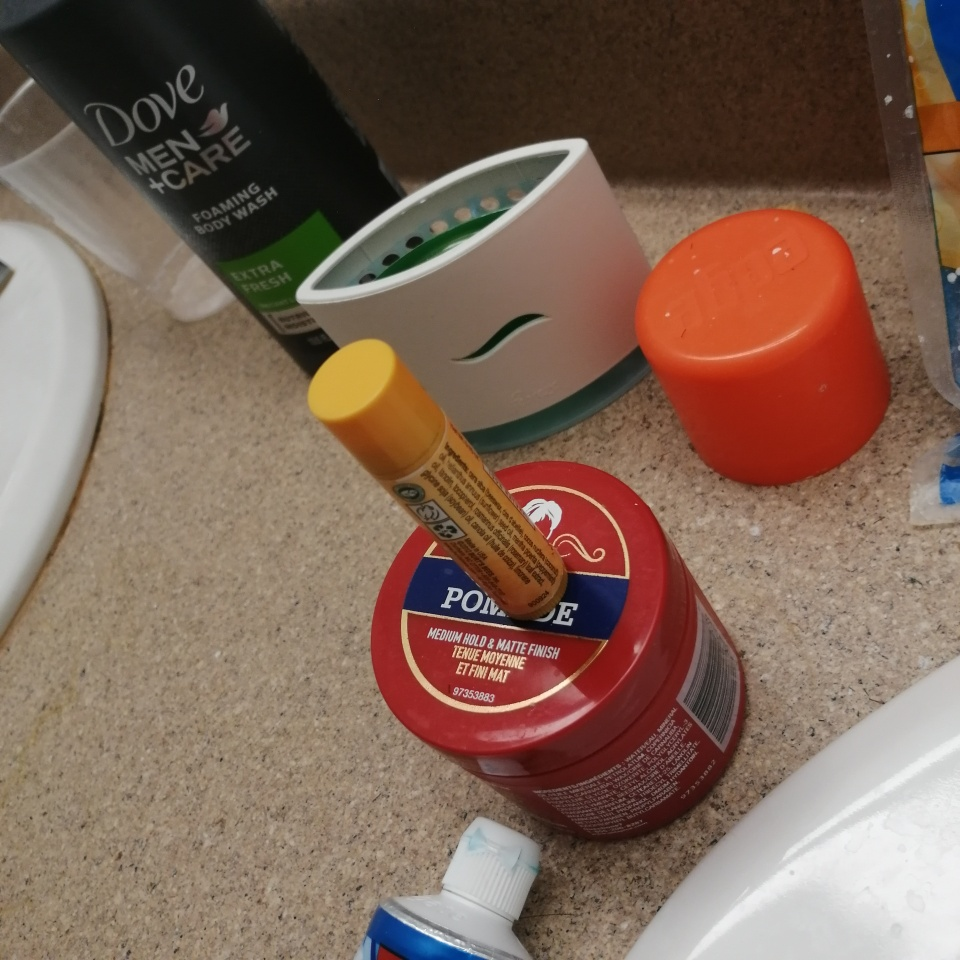chapstick: (305, 336, 570, 626)
